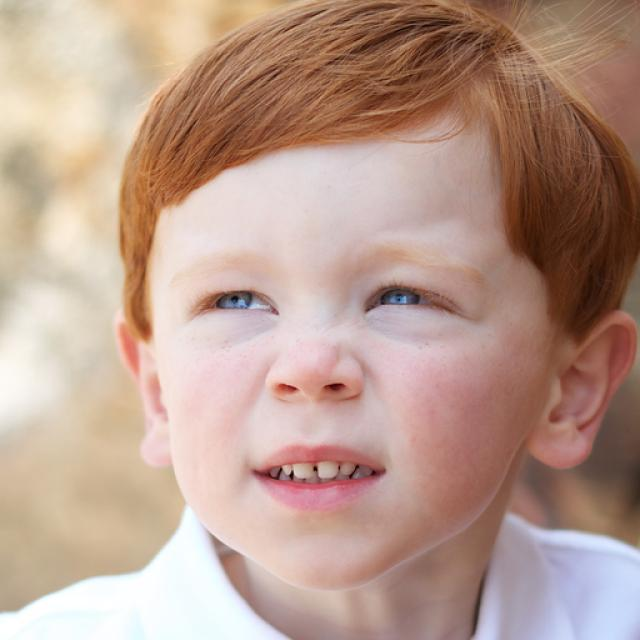disgust: (145, 108, 550, 593)
